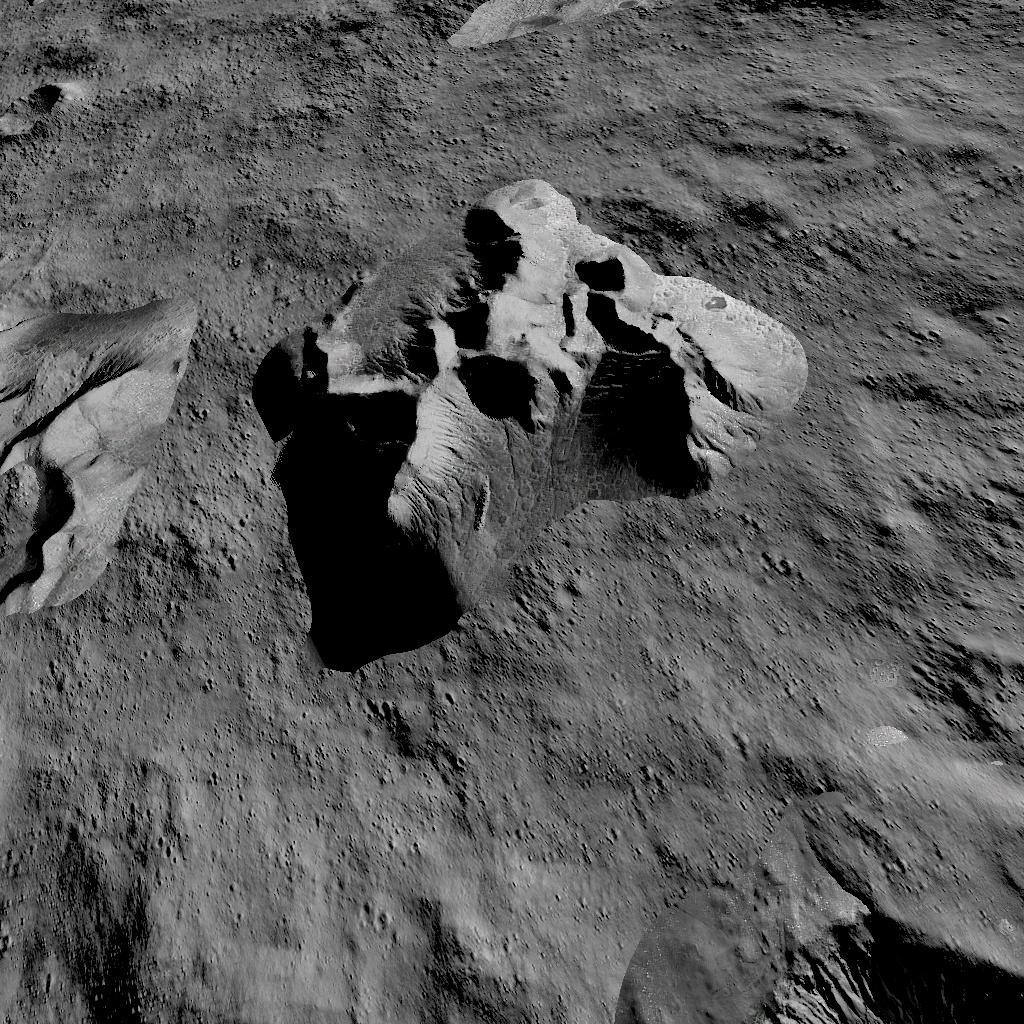Boulders: (250, 176, 810, 664), (3, 286, 201, 622), (433, 0, 630, 51)
Crater: (643, 866, 1024, 1024), (931, 624, 1024, 760), (8, 66, 84, 136), (89, 976, 147, 1024)
Plan surface: (174, 686, 620, 1024), (831, 182, 1024, 598), (660, 0, 1010, 158), (642, 676, 914, 840), (101, 2, 385, 154), (4, 644, 148, 932)
